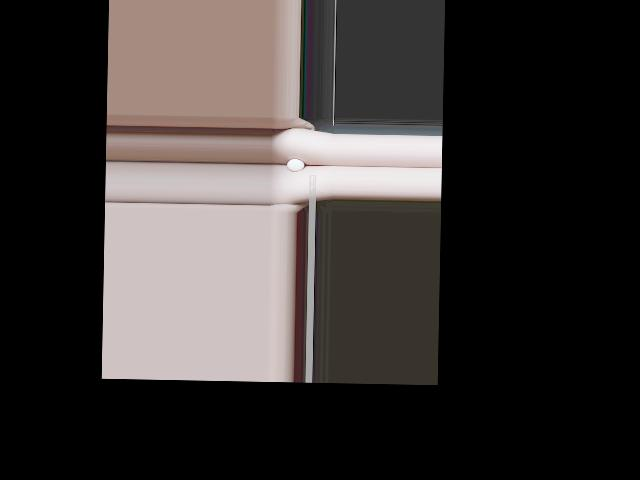egg: (287, 158, 304, 171)
